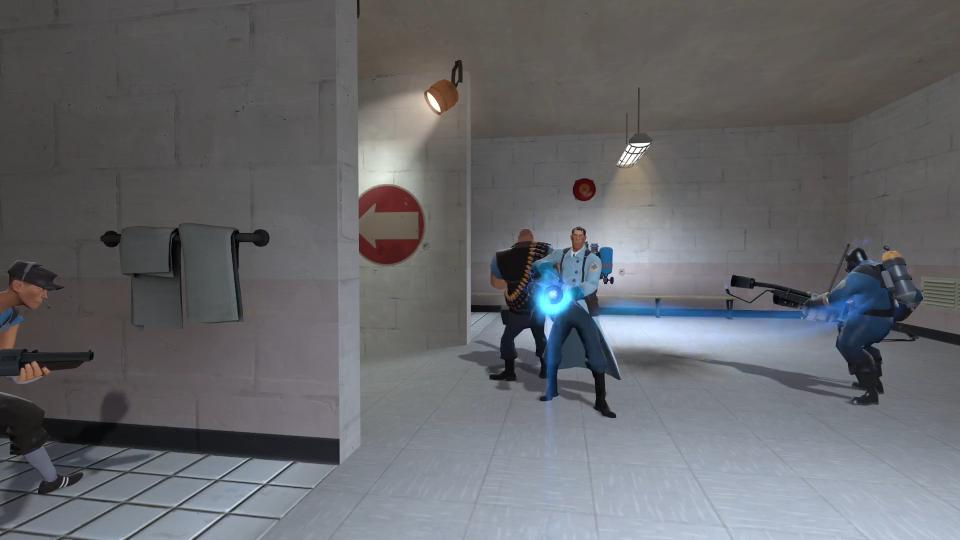Enemy: (725, 246, 924, 406), (0, 260, 96, 495), (535, 227, 624, 419), (490, 228, 559, 380)
